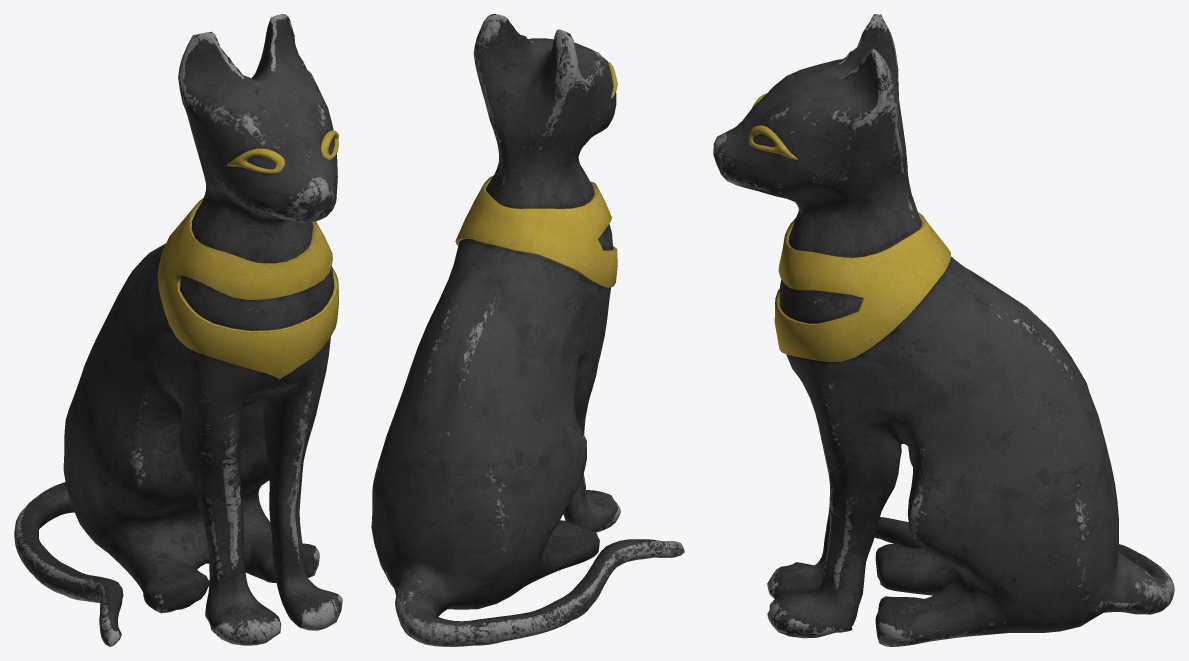
The model's file is cat.fbx.
3 views of the same model, side by side, from view 1: azimuth 30°, elevation 25°; view 2: azimuth 150°, elevation 25°; view 3: azimuth 270°, elevation 25° (orthographic). The views are drawn at different scales.
Parts seen in each view (by area): view 1: body, Details; view 2: body, Details; view 3: body, Details.
Boxes of the visible parts, box(x1,y1,x2,y2) form: body: box(14, 14, 342, 646); Details: box(157, 130, 338, 378); body: box(371, 14, 684, 646); Details: box(455, 62, 617, 287); body: box(713, 14, 1174, 646); Details: box(748, 93, 950, 361).
Size of the model in its own units: 629 by 1427 by 1020.
Materials: 2 (2 with a texture image).
